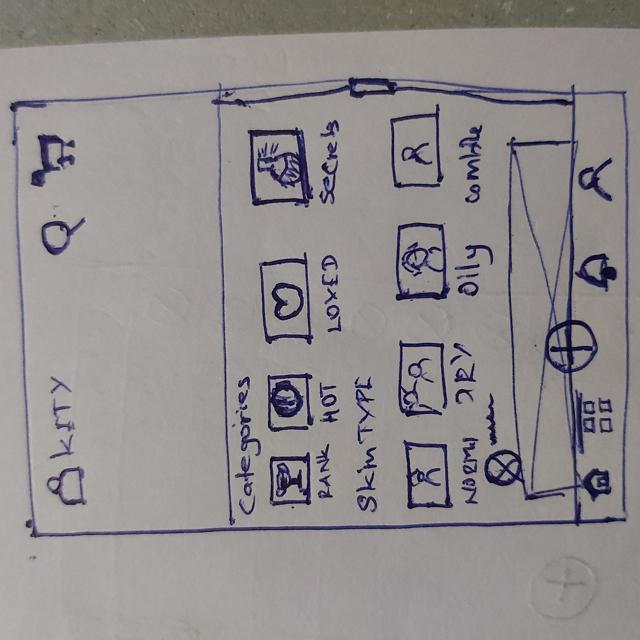ActionButton: (23, 126, 87, 203), (36, 216, 93, 256)
AppBar: (14, 100, 232, 536)
BottomNavBar: (569, 93, 626, 524)
BottomNavItems: (573, 125, 625, 232), (569, 237, 627, 319), (573, 454, 625, 523), (573, 384, 624, 451)
Fab: (545, 319, 598, 376)
HorizontalListView: (384, 94, 483, 523), (247, 104, 340, 525)
Icon: (28, 130, 78, 192), (254, 145, 301, 189), (405, 353, 439, 410), (578, 155, 616, 204), (578, 251, 618, 294), (40, 218, 89, 253), (46, 466, 87, 505), (402, 242, 444, 275), (581, 397, 615, 437), (398, 138, 434, 170), (273, 382, 303, 420), (410, 461, 445, 493), (275, 462, 304, 497), (274, 279, 301, 316), (586, 467, 613, 501)
Image: (510, 141, 575, 493)
Layout: (259, 260, 314, 343), (247, 129, 308, 203), (397, 222, 448, 302), (390, 114, 444, 188), (398, 342, 448, 416), (404, 440, 452, 509), (267, 373, 313, 430), (270, 454, 310, 504)
ListView: (383, 94, 486, 524), (246, 101, 343, 522)
MainLayout: (7, 86, 634, 528)
RoundedImage: (483, 448, 518, 489)
ScrollBar: (221, 82, 570, 111)
ScrollView: (217, 88, 570, 525)
TextView: (351, 373, 383, 513), (232, 374, 261, 520), (46, 373, 76, 462), (455, 240, 494, 301), (448, 341, 478, 408), (321, 253, 345, 336), (460, 123, 482, 211), (319, 118, 340, 207), (458, 436, 482, 507), (317, 381, 341, 424), (317, 444, 334, 501), (486, 393, 499, 446)
